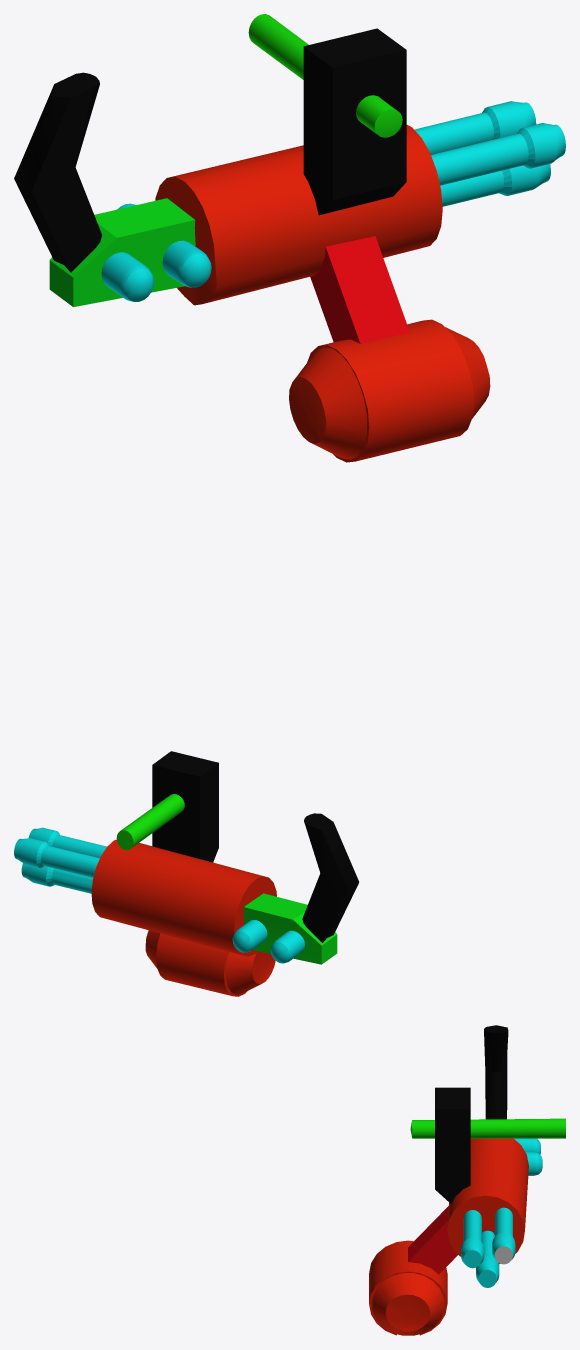
File: Ryans minigun 2.fbx
The picture shows the model from 3 angles, top to bottom: view 1: azimuth 30°, elevation 25°; view 2: azimuth 150°, elevation 25°; view 3: azimuth 270°, elevation 25°; orthographic projection. The views are drawn at different scales.
Visible parts, largest first — view 1: pCube8; view 2: pCube8; view 3: pCube8.
Part boxes in pixels (x1,y1,x2,y2): pCube8: (14,14,565,462); pCube8: (14,751,359,996); pCube8: (369,1025,565,1335).
Bounding box in the file's own units: 2702 × 1853 × 4133.
